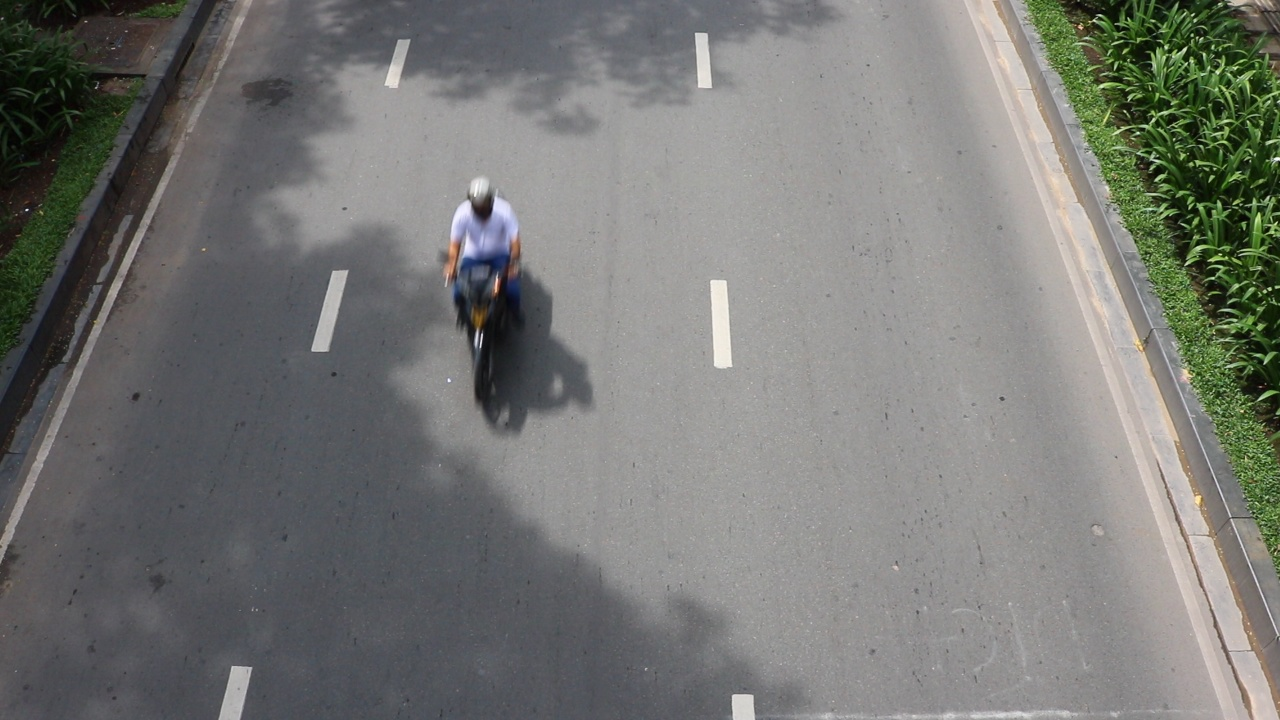motorcycle: (445, 256, 522, 406)
